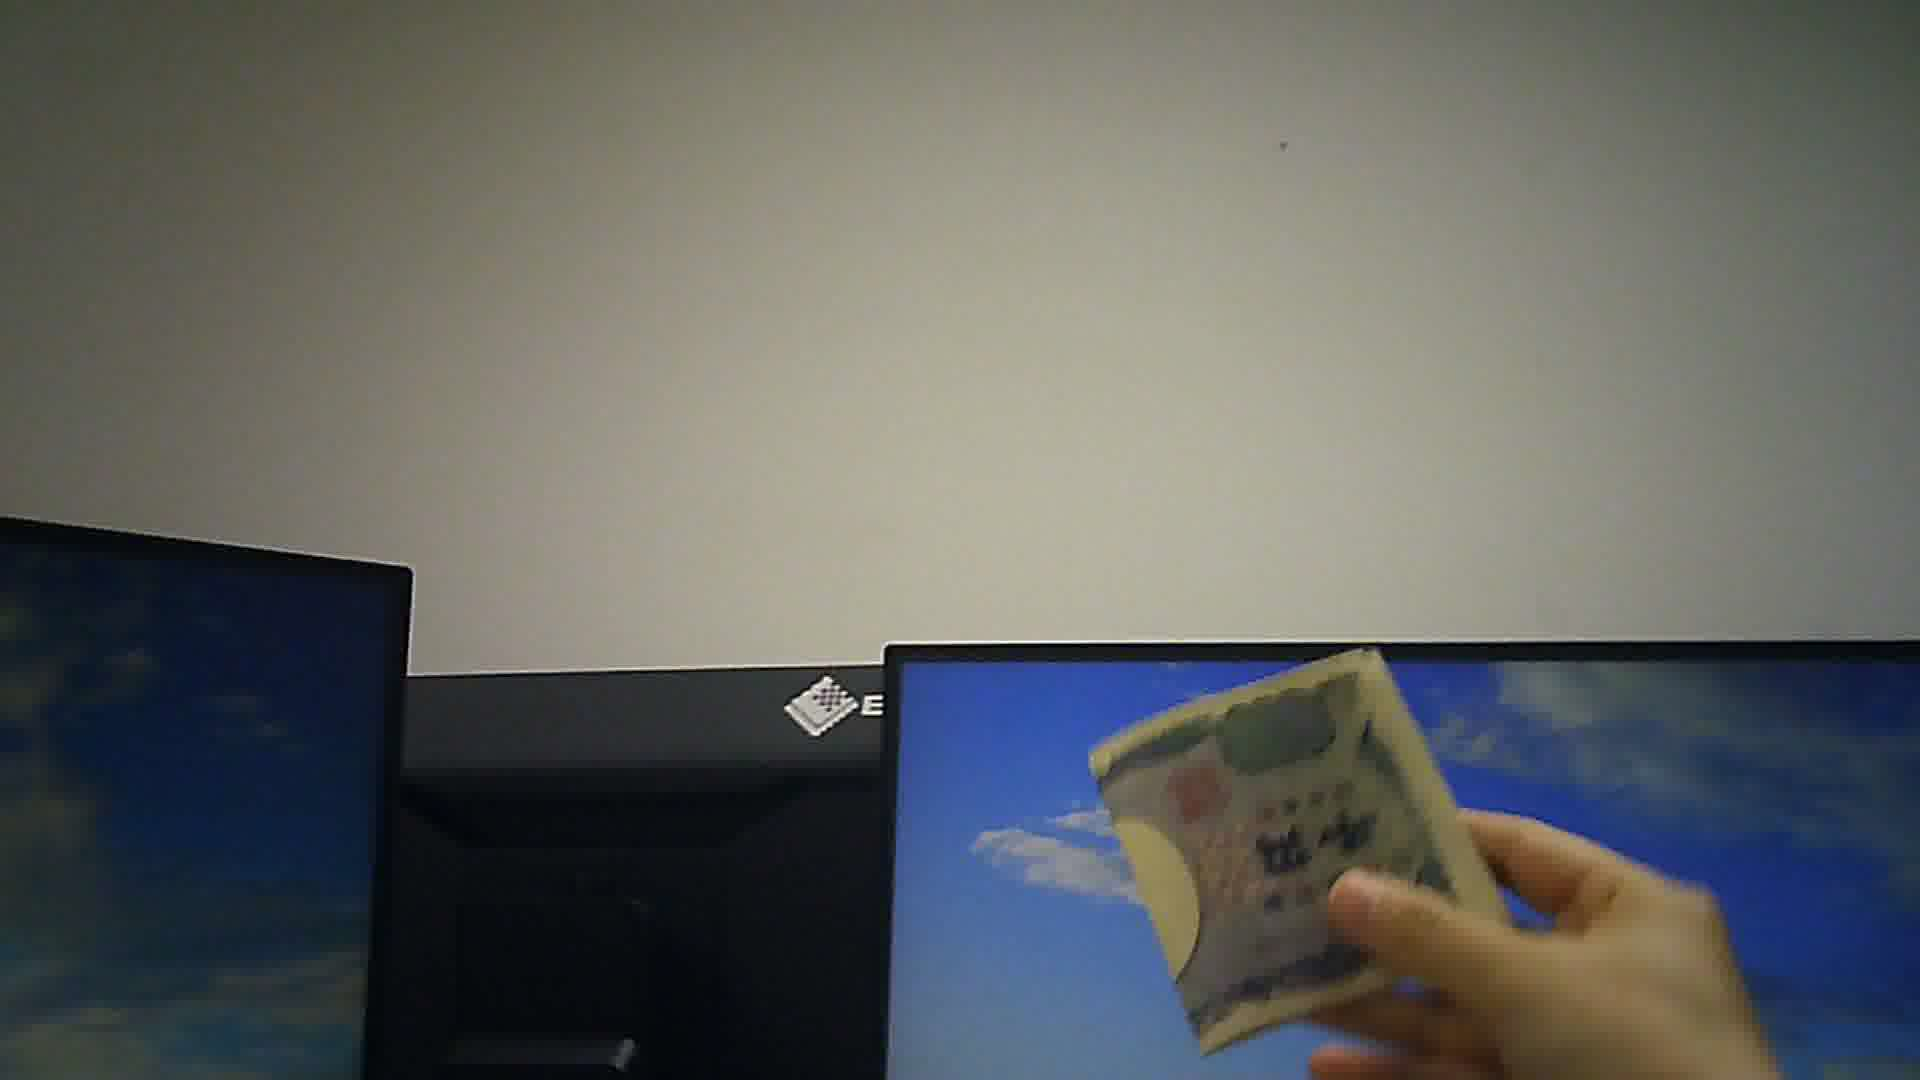1,000 Yen: (1091, 628, 1524, 1059)
